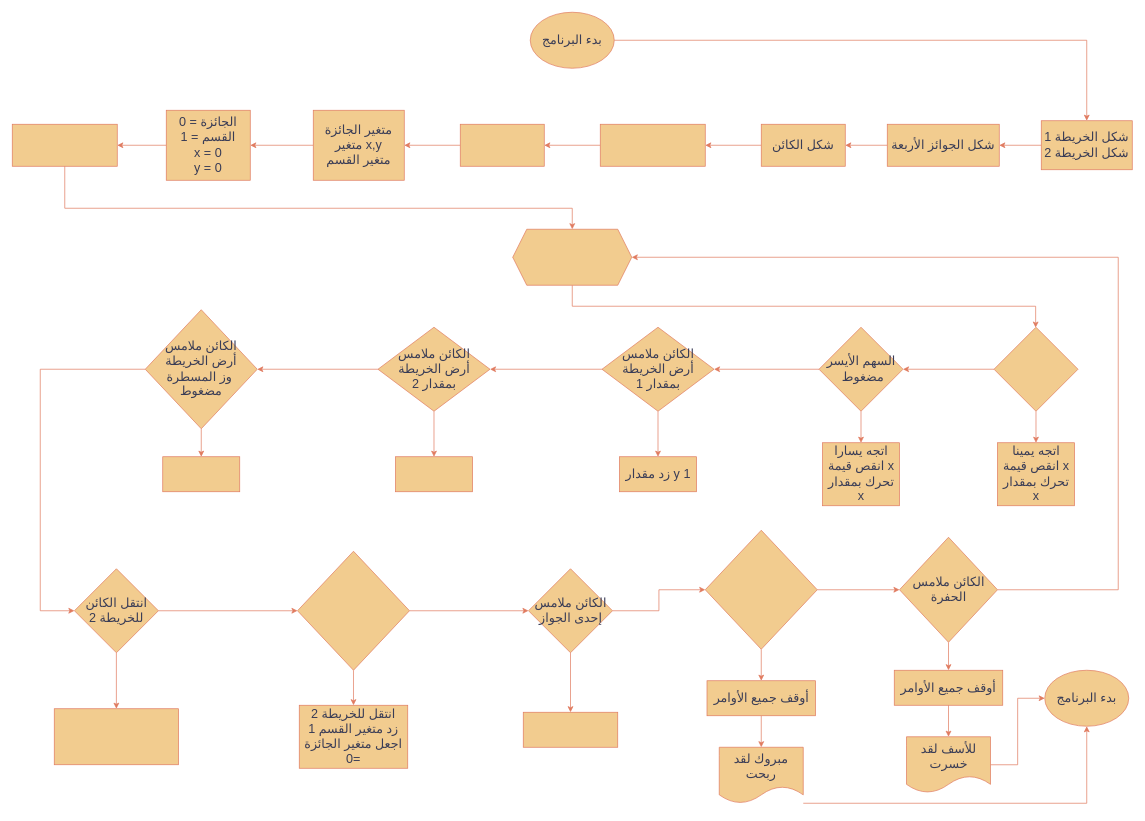
Image size: 1145x821. Some labels were removed from this diagram. The box of each missing label's shape, as (x1, y1, x2, y2) in pixels:
أخف الجائزة زد متغير الجائزة 1: (523, 712, 618, 747)
اظهر الجوائز إعطاء احداثيات جديدة للجوائز: (54, 708, 178, 765)
السهم الأيمن مضغوط: (993, 327, 1078, 411)
الكائن ملامس باب الخريطة 1 ومتغير الجائزة =4: (297, 551, 410, 670)
الكائن ملامس باب الخريطة 2 ومتغير الجائزة =4: (705, 530, 817, 649)
تحديد إحداثيات الجوائز والخرائط والكائن: (12, 124, 117, 166)
زد مقدار y: (162, 456, 240, 492)
زد مقدار y 2: (395, 456, 472, 492)
شكل الخلفية: (460, 124, 544, 166)
شكل شاشة الرح شكل شاشة الخسارة: (600, 124, 705, 166)
كرر باستمرار: (512, 229, 632, 285)
